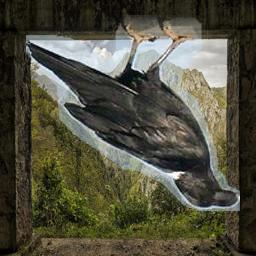Crow: (26, 15, 240, 211)
